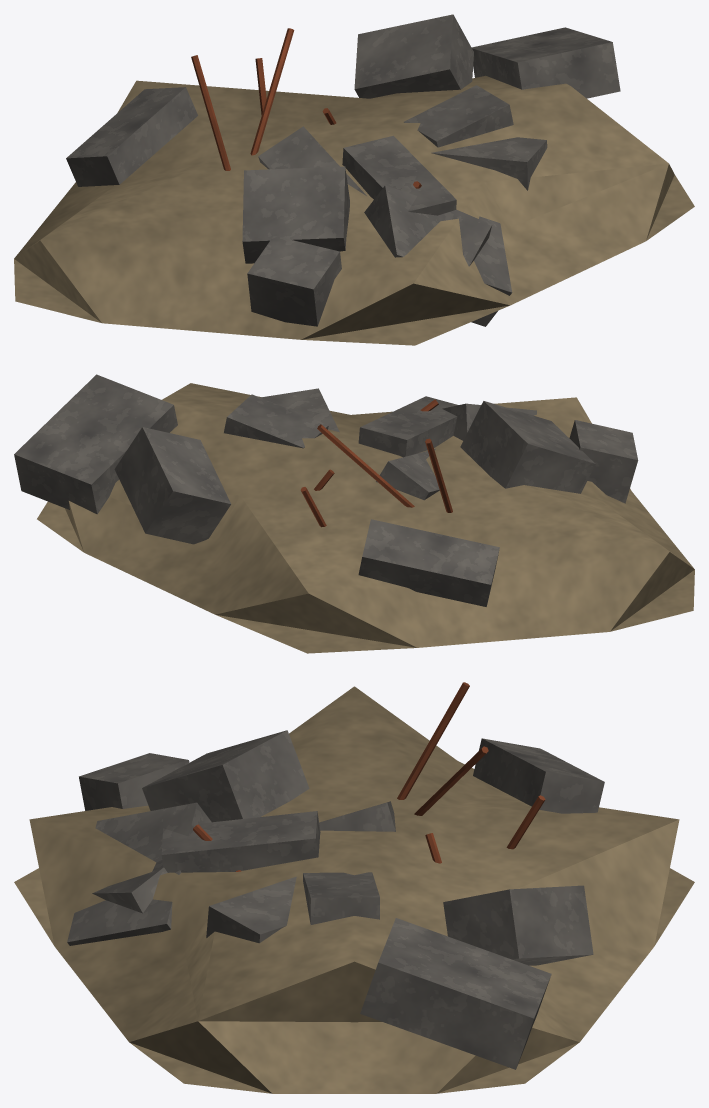
The model's file is BLD_Rubble_Pile.glb.
The picture shows the model from 3 angles, top to bottom: view 1: azimuth 30°, elevation 25°; view 2: azimuth 150°, elevation 25°; view 3: azimuth 270°, elevation 25°; orthographic projection. The views are drawn at different scales.
Visible parts, largest first — view 1: BLD_Rubble_Pile_Mesh; view 2: BLD_Rubble_Pile_Mesh; view 3: BLD_Rubble_Pile_Mesh.
Part boxes in pixels (x1,y1,x2,y2): BLD_Rubble_Pile_Mesh: (14,14,694,345); BLD_Rubble_Pile_Mesh: (14,374,694,653); BLD_Rubble_Pile_Mesh: (14,682,694,1093).
Size of the model in its own units: 2.52 by 0.7287 by 2.03.
3 materials, 3 textured.
